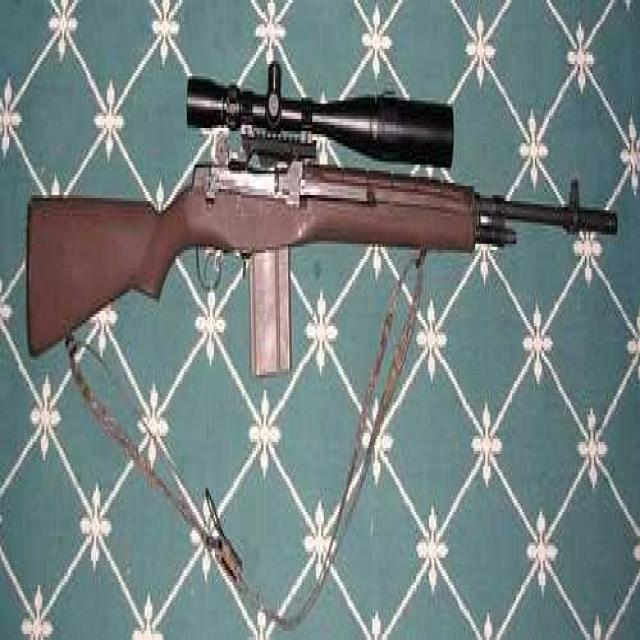weapon: (28, 46, 632, 452)
